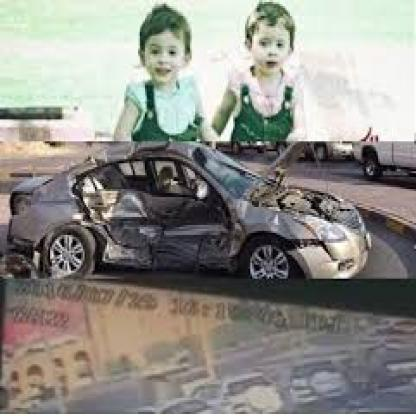accident: (3, 139, 392, 280)
